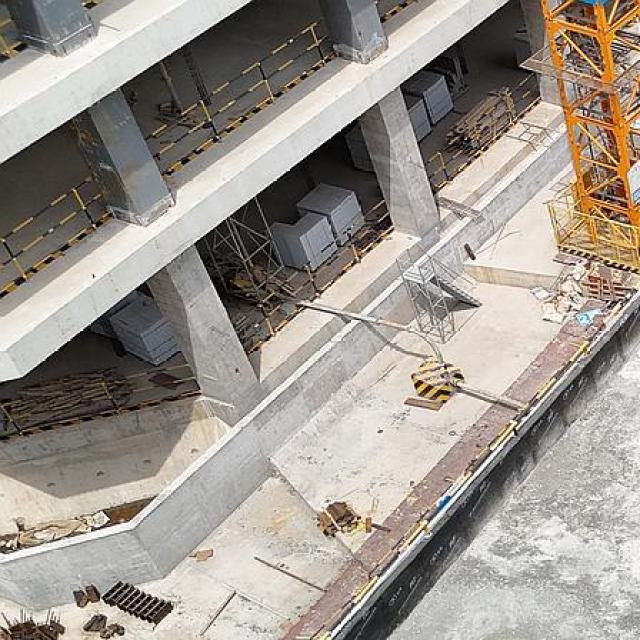edge_guardrail: (314, 274, 640, 640), (144, 12, 336, 175), (232, 196, 395, 355), (424, 71, 544, 195), (0, 363, 201, 436), (0, 174, 113, 296)
